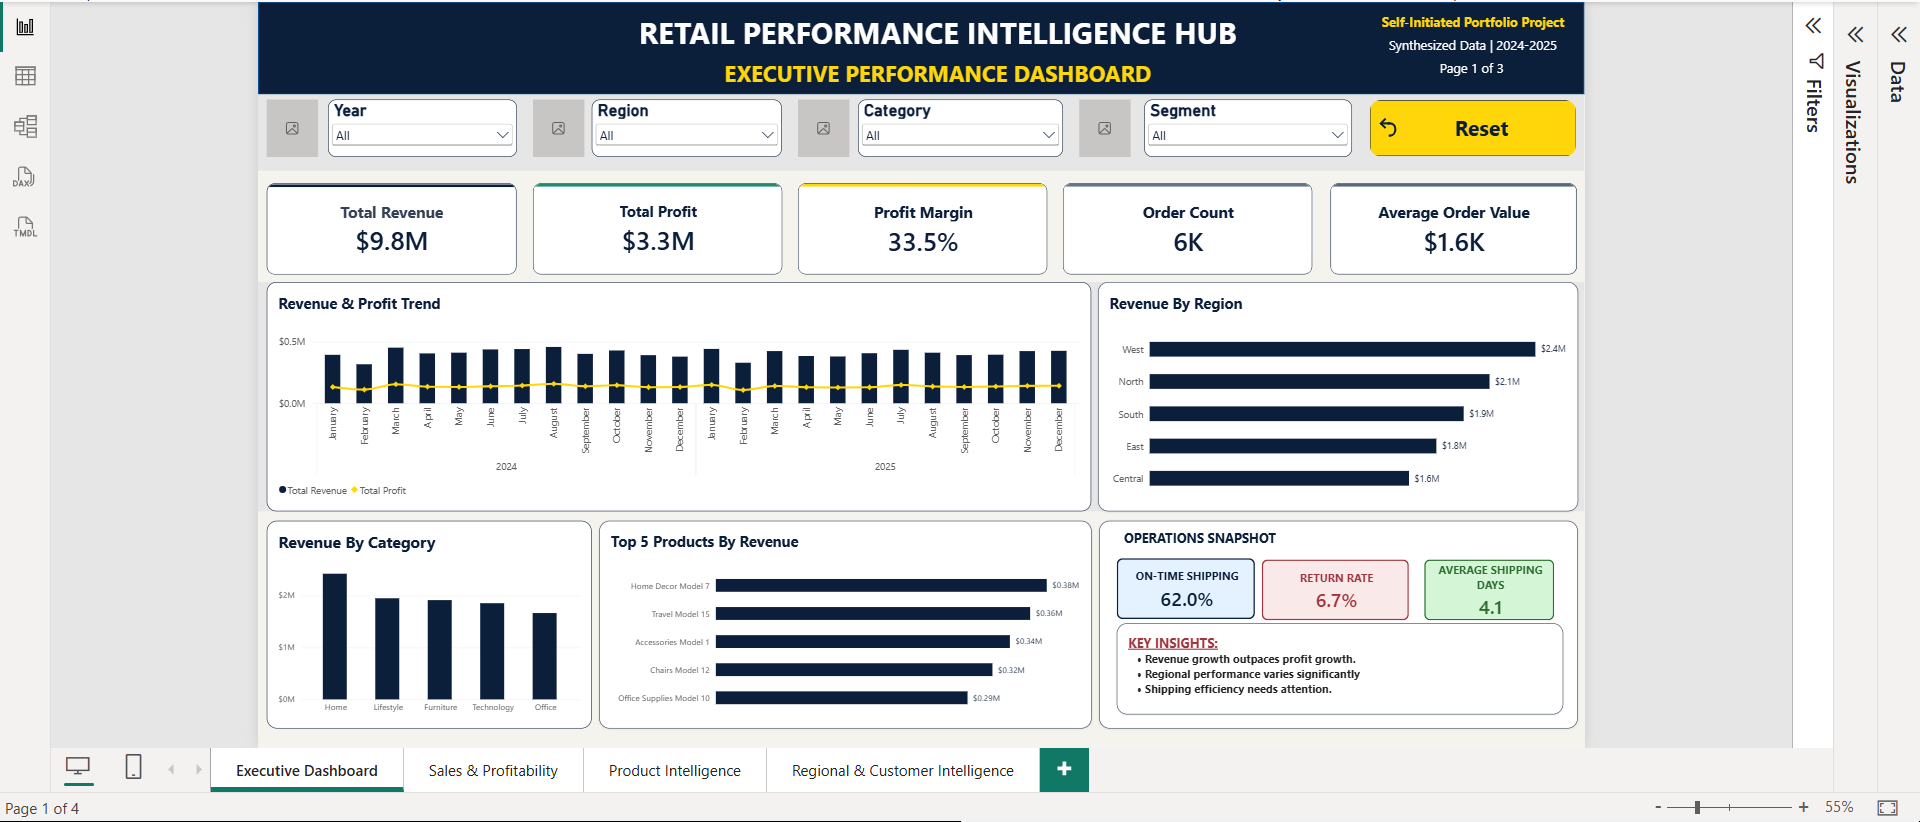

The dashboard page shown, as its layout file describes it:
{"tool":"powerbi","page":{"name":"Executive Dashboard","canvas":[1920,1080],"ordinal":0},"visuals":[{"type":"shape","box":[0,0,1920.1,133.9],"z":0},{"type":"textbox","box":[515.8,14.5,937.4,67],"z":1000},{"type":"textbox","box":[515.8,81.4,937.4,67],"z":2000},{"type":"textbox","box":[1597.9,16.3,322.1,32.6],"z":3000},{"type":"textbox","box":[1597.9,48.9,322.1,32.6],"z":4000},{"type":"shape","box":[0,133.9,1920.1,110.4],"z":5000},{"type":"slicer","fields":{"Values":["Date.Year"]},"box":[101.3,141.2,273.3,83.2],"z":6000},{"type":"slicer","fields":{"Values":["Orders.Region"]},"box":[483.2,141.2,275.1,83.2],"z":7000},{"type":"slicer","fields":{"Values":["Orders.Category"]},"box":[868.6,141.2,296.8,83.2],"z":8000},{"type":"slicer","fields":{"Values":["Orders.Segment"]},"box":[1283,141.2,300.4,83.2],"z":9000},{"type":"actionButton","box":[1608.8,141.2,300,83.2],"z":10000},{"type":"cardVisual","fields":{"Data":["Orders.Total Revenue"]},"box":[12.7,262.4,361.9,132.1],"z":11000},{"type":"cardVisual","fields":{"Data":["Orders.Total Profit"]},"box":[398.1,262.4,361,132.1],"z":12000},{"type":"cardVisual","fields":{"Data":["Orders.Profit Margin"]},"box":[781.8,262.4,361,132.1],"z":13000},{"type":"cardVisual","fields":{"Data":["Orders.Order Count"]},"box":[1165.4,262.4,361,132.1],"z":14000},{"type":"cardVisual","fields":{"Data":["Orders.Average Order Value"]},"box":[1552.7,262.4,356.5,132.1],"z":15000},{"type":"shape","box":[0,406.2,1920,332.3],"z":16000},{"type":"lineClusteredColumnComboChart","title":"Revenue & Profit Trend","fields":{"Y":["Orders.Total Revenue"],"Category":["Date.Year_Month.Variation.Date Hierarchy.Year","Date.Year_Month.Variation.Date Hierarchy.Month"],"Y2":["Orders.Total Profit"]},"box":[12.3,406.2,1193.8,332.3],"z":17000},{"type":"clusteredBarChart","title":"Revenue By Region","fields":{"Category":["Customers.Region"],"Y":["Orders.Total Revenue"]},"box":[1215.4,406.2,695.4,332.3],"z":18000},{"type":"clusteredColumnChart","title":"Revenue By Category","fields":{"Category":["Orders.Category"],"Y":["Orders.Total Revenue"]},"box":[12.7,751,470.5,300.4],"z":19000},{"type":"image","box":[12.7,141.2,74.2,83.2],"z":20000},{"type":"image","box":[398.1,141.2,74.2,83.2],"z":21000},{"type":"image","box":[781.8,141.2,74.2,83.2],"z":22000},{"type":"image","box":[1188.9,141.2,74.2,83.2],"z":23000},{"type":"clusteredBarChart","title":"Top 5 Products By Revenue","fields":{"Category":["Products.Product_Name"],"Y":["Orders.Total Revenue"]},"box":[494,751,713,300.4],"z":24000},{"type":"shape","box":[1217.9,751,693.1,300.4],"z":25000},{"type":"textbox","box":[1038.7,763.7,649.7,43.4],"z":26000},{"type":"cardVisual","fields":{"Data":["Orders.Average Shipping Days"]},"box":[1688.4,807.1,188.2,88.7],"z":27000},{"type":"cardVisual","fields":{"Data":["Orders.Return Rate"]},"box":[1453.2,807.1,213.5,88.7],"z":28000},{"type":"cardVisual","fields":{"Data":["Orders.On-Time Shipping %"]},"box":[1243.2,805.3,200,88.7],"z":29000},{"type":"textbox","box":[1243.2,899.4,646,132.1],"z":30000},{"type":"textbox","box":[1596.9,83.1,322.1,32.6],"z":31000}]}

Visuals, with their boxes on the page's 1920x1080 design canvas (x1, y1, x2, y2). These are canvas units, not pixel positions in the 1920x822 screenshot, which may show the page scaled, cropped or inside an application window:
shape: x1=0, y1=0, x2=1920, y2=134
textbox: x1=516, y1=14, x2=1453, y2=82
textbox: x1=516, y1=81, x2=1453, y2=148
textbox: x1=1598, y1=16, x2=1920, y2=49
textbox: x1=1598, y1=49, x2=1920, y2=82
shape: x1=0, y1=134, x2=1920, y2=244
slicer - Date.Year: x1=101, y1=141, x2=375, y2=224
slicer - Orders.Region: x1=483, y1=141, x2=758, y2=224
slicer - Orders.Category: x1=869, y1=141, x2=1165, y2=224
slicer - Orders.Segment: x1=1283, y1=141, x2=1583, y2=224
actionButton: x1=1609, y1=141, x2=1909, y2=224
cardVisual - Orders.Total Revenue: x1=13, y1=262, x2=375, y2=394
cardVisual - Orders.Total Profit: x1=398, y1=262, x2=759, y2=394
cardVisual - Orders.Profit Margin: x1=782, y1=262, x2=1143, y2=394
cardVisual - Orders.Order Count: x1=1165, y1=262, x2=1526, y2=394
cardVisual - Orders.Average Order Value: x1=1553, y1=262, x2=1909, y2=394
shape: x1=0, y1=406, x2=1920, y2=738
"Revenue & Profit Trend" lineClusteredColumnComboChart: x1=12, y1=406, x2=1206, y2=738
"Revenue By Region" clusteredBarChart: x1=1215, y1=406, x2=1911, y2=738
"Revenue By Category" clusteredColumnChart: x1=13, y1=751, x2=483, y2=1051
image: x1=13, y1=141, x2=87, y2=224
image: x1=398, y1=141, x2=472, y2=224
image: x1=782, y1=141, x2=856, y2=224
image: x1=1189, y1=141, x2=1263, y2=224
"Top 5 Products By Revenue" clusteredBarChart: x1=494, y1=751, x2=1207, y2=1051
shape: x1=1218, y1=751, x2=1911, y2=1051
textbox: x1=1039, y1=764, x2=1688, y2=807
cardVisual - Orders.Average Shipping Days: x1=1688, y1=807, x2=1877, y2=896
cardVisual - Orders.Return Rate: x1=1453, y1=807, x2=1667, y2=896
cardVisual - Orders.On-Time Shipping %: x1=1243, y1=805, x2=1443, y2=894
textbox: x1=1243, y1=899, x2=1889, y2=1032
textbox: x1=1597, y1=83, x2=1919, y2=116
